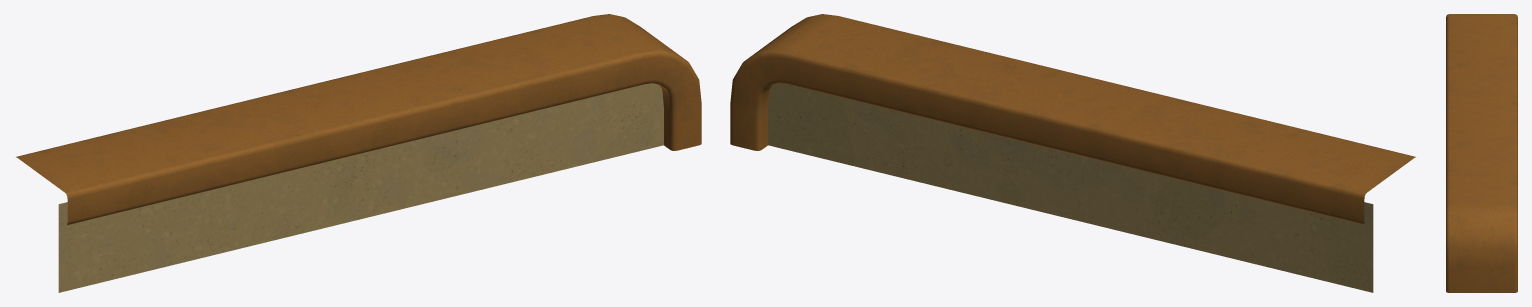
The model's file is SM_bar_counter.glb.
3 views of the same model, side by side, from view 1: azimuth 30°, elevation 25°; view 2: azimuth 150°, elevation 25°; view 3: azimuth 270°, elevation 25° (orthographic). The views are drawn at different scales.
Parts seen in each view (by area): view 1: SM_bar_counter; view 2: SM_bar_counter; view 3: SM_bar_counter.
Part boxes in pixels (left/top/right/bottom): SM_bar_counter: left=16, top=14, right=701, bottom=292; SM_bar_counter: left=730, top=14, right=1415, bottom=292; SM_bar_counter: left=1446, top=14, right=1517, bottom=292.
Bounding box in the file's own units: 8.25 × 1.3 × 1.2.
2 materials, 2 textured.
